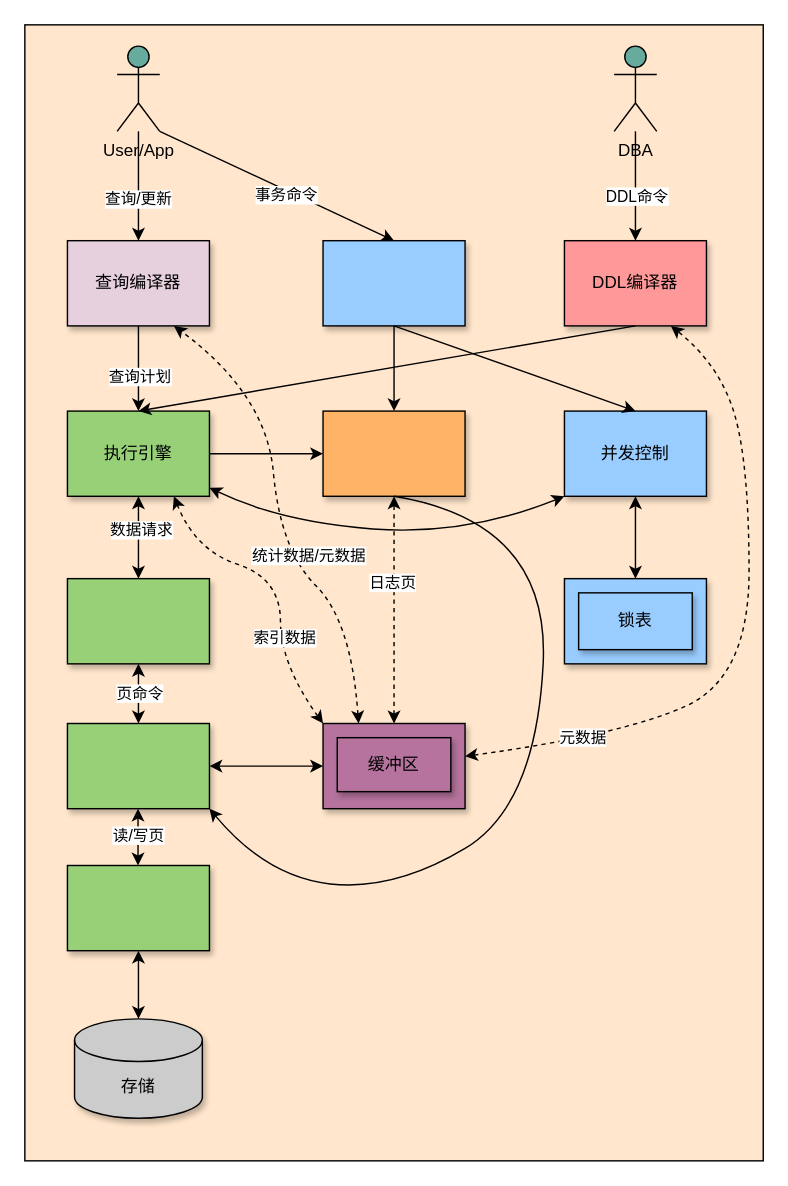
The diagram is 788 pixels wide and 1186 high, and some of its shapes have lost their labels. Here are the shapes that lost their labels. From the top down, the centre of each, then its label:
(x=395, y=285): 事务管理器
(x=395, y=455): 日志与恢复
(x=139, y=623): 索引/文件/记录管理器
(x=139, y=767): 缓冲区管理器
(x=139, y=909): 存储管理器
